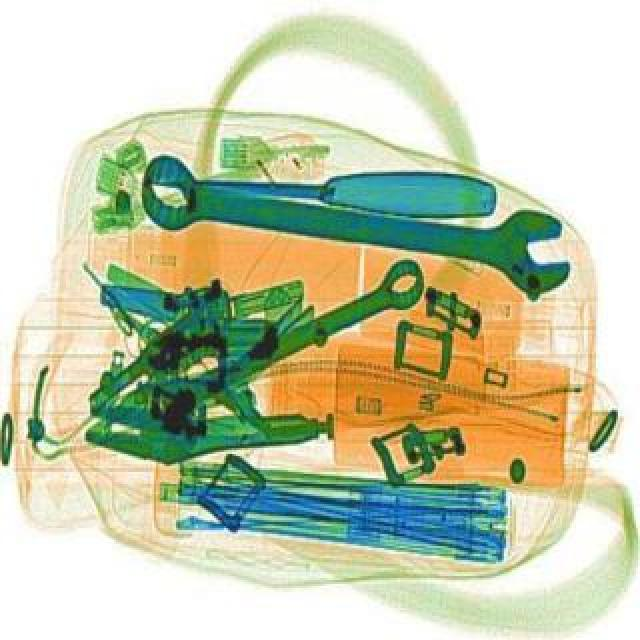gun: (76, 276, 284, 448)
knife: (140, 152, 494, 216)
scissors: (130, 144, 582, 296)
